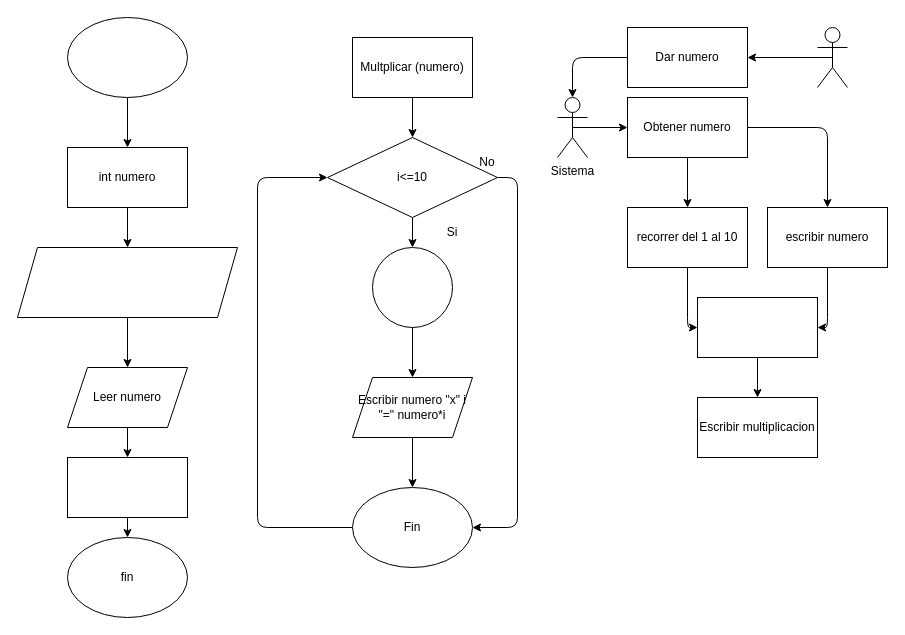
This 905x635 diagram has some shape labels left out. The shapes that lost their labels are listed below. From the top down, each one's centre as x and y in pixels, then its label:
[127,57]: Inicio
[832,57]: Usuario
[127,282]: Escribir "Ingrese un numero para ver su tabla de multiplicar"
[412,287]: i = i +1
[757,327]: Multiplicacion
[127,487]: multiplicar(numero)
